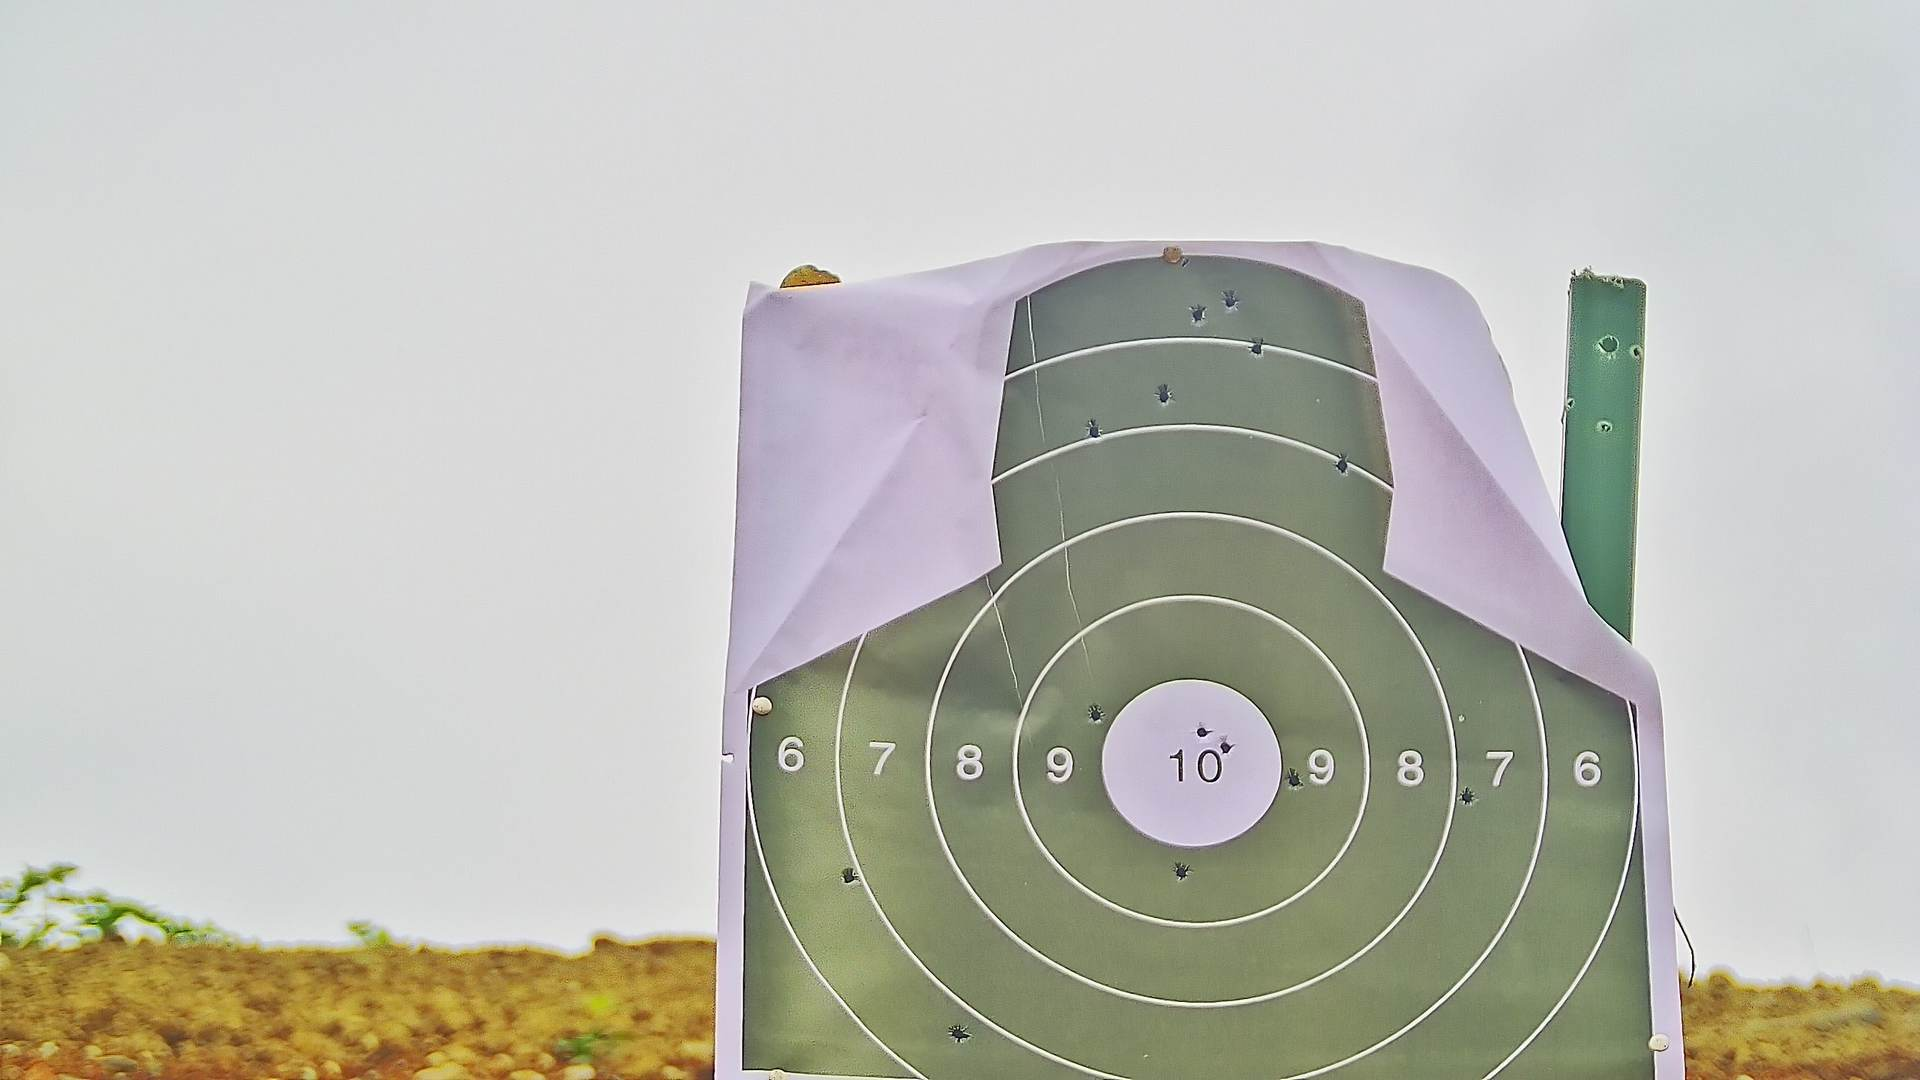hole: (948, 1023, 971, 1043), (1087, 702, 1102, 724), (1286, 769, 1302, 791), (1156, 385, 1174, 404), (1085, 419, 1101, 438), (1335, 456, 1350, 473), (1461, 787, 1477, 804), (1247, 338, 1262, 356), (1189, 305, 1204, 323), (841, 866, 856, 885), (1224, 293, 1237, 313), (1195, 723, 1211, 738), (1174, 862, 1187, 880), (1218, 738, 1230, 754)
kernel: (1189, 764, 1193, 769)
target: (740, 265, 1662, 1080)
ten: (1097, 680, 1286, 849)
